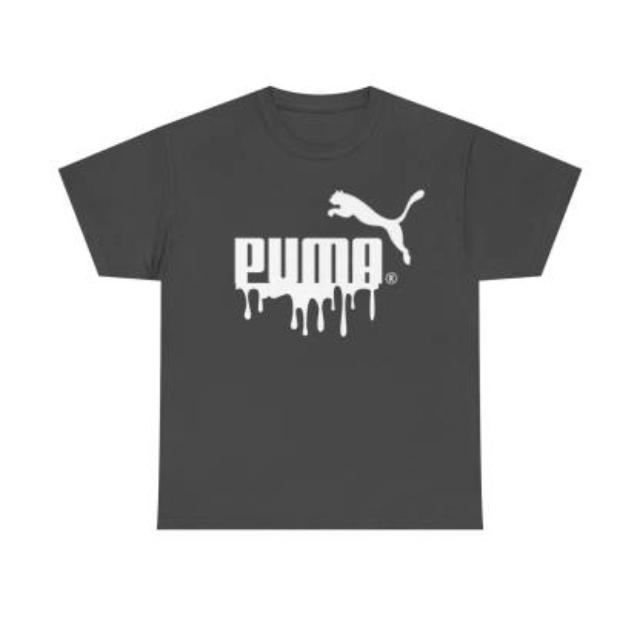PUMA_fake: (225, 193, 440, 337)
